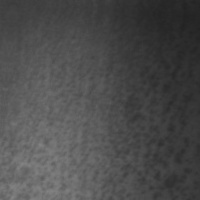pitted_surface: (0, 11, 199, 199)
